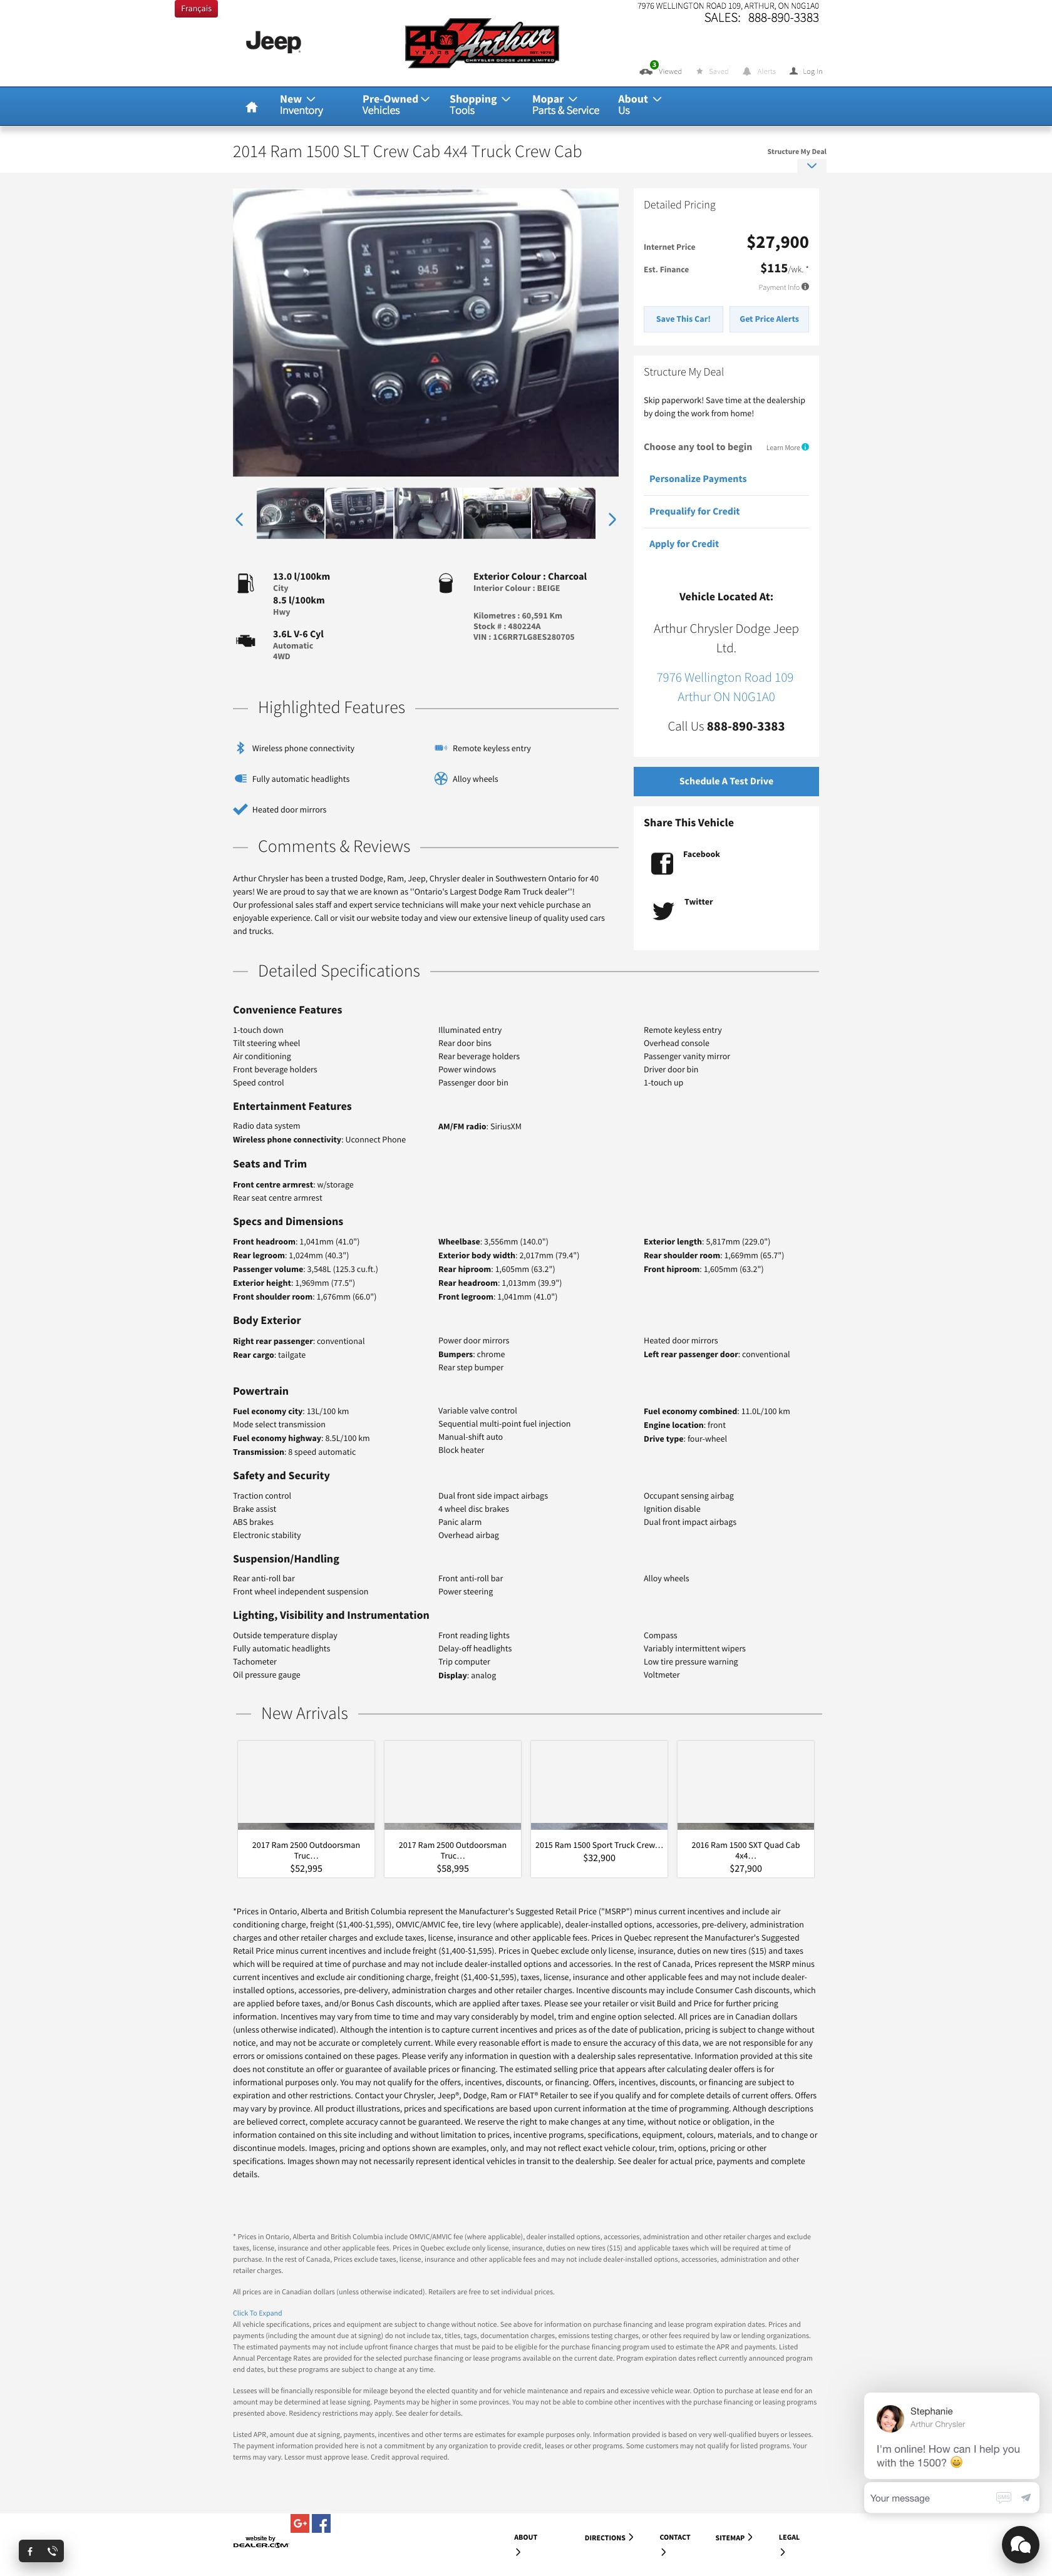car: (608, 511, 616, 529)
